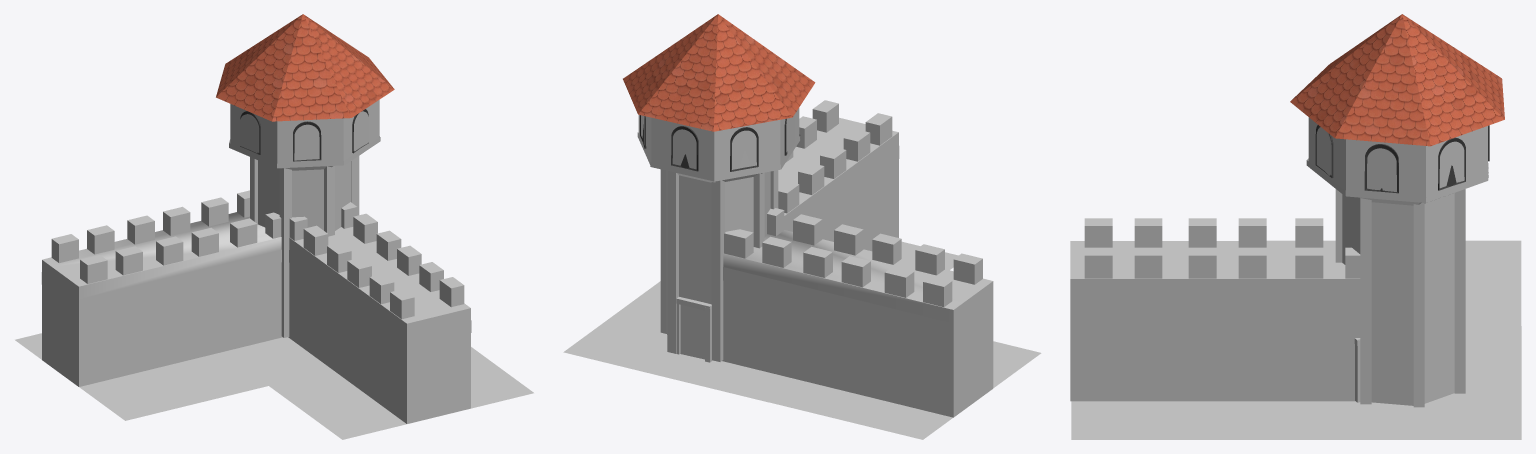
Rendered from HumanWallCorner1.fbx.
3 views of the same model, side by side, from view 1: azimuth 30°, elevation 25°; view 2: azimuth 150°, elevation 25°; view 3: azimuth 270°, elevation 25° (orthographic). The views are drawn at different scales.
Visible parts, largest first — view 1: Muralla2_Paredes, Muralla_Paredes, Suelo, Techo, EstructuraPiedra, Cubo.000, Cubo.005, Pilares, Muralla2_Bandera, InteriorVentan6, Muralla_Bandera, BandaRoja (+1 smaller); view 2: Muralla2_Paredes, Suelo, Techo, EstructuraPiedra, Cubo.000, Pilares, Muralla_Paredes, Cubo.005, Muralla2_Bandera, InteriorVentan6, Muralla_Bandera, Puertas (+2 smaller); view 3: Muralla_Paredes, Suelo, EstructuraPiedra, Techo, Cubo.005, Pilares, Muralla_Bandera, InteriorVentan6, Ventanas, BandaRoja.
Part boxes in pixels (x1=…): Muralla2_Paredes: x1=42, y1=212, x2=282, y2=386; Muralla_Paredes: x1=288, y1=227, x2=470, y2=423; Suelo: x1=15, y1=333, x2=533, y2=439; Techo: x1=216, y1=14, x2=394, y2=121; EstructuraPiedra: x1=230, y1=100, x2=379, y2=230; Cubo.000: x1=51, y1=190, x2=281, y2=283; Cubo.005: x1=289, y1=202, x2=464, y2=319; Pilares: x1=250, y1=156, x2=359, y2=337; Muralla2_Bandera: x1=41, y1=249, x2=281, y2=311; InteriorVentan6: x1=240, y1=111, x2=368, y2=160; Muralla_Bandera: x1=289, y1=250, x2=471, y2=348; BandaRoja: x1=229, y1=136, x2=380, y2=168; Muralla2_Paredes: x1=722, y1=230, x2=993, y2=417; Suelo: x1=563, y1=241, x2=1041, y2=439; Techo: x1=623, y1=14, x2=815, y2=131; EstructuraPiedra: x1=638, y1=108, x2=799, y2=334; Cubo.000: x1=724, y1=208, x2=982, y2=306; Pilares: x1=660, y1=169, x2=778, y2=362; Muralla_Paredes: x1=778, y1=117, x2=898, y2=251; Cubo.005: x1=778, y1=100, x2=892, y2=213; Muralla2_Bandera: x1=723, y1=267, x2=953, y2=336; InteriorVentan6: x1=641, y1=115, x2=794, y2=169; Muralla_Bandera: x1=784, y1=146, x2=899, y2=231; Puertas: x1=680, y1=305, x2=704, y2=359; Muralla_Paredes: x1=1070, y1=241, x2=1360, y2=401; Suelo: x1=1071, y1=240, x2=1521, y2=439; EstructuraPiedra: x1=1308, y1=117, x2=1487, y2=405; Techo: x1=1290, y1=14, x2=1504, y2=146; Cubo.005: x1=1084, y1=218, x2=1360, y2=278; Pilares: x1=1335, y1=189, x2=1465, y2=407; Muralla_Bandera: x1=1070, y1=294, x2=1360, y2=309; InteriorVentan6: x1=1316, y1=127, x2=1464, y2=191; Ventanas: x1=1315, y1=125, x2=1489, y2=193; BandaRoja: x1=1306, y1=158, x2=1488, y2=202.
Size of the model in its own units: 1050 by 905 by 1002.
